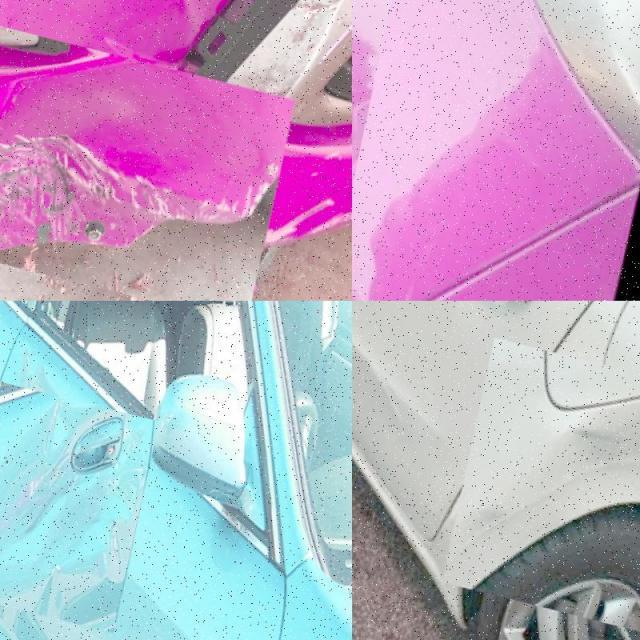car damage: (9, 514, 221, 640), (0, 126, 177, 257), (0, 456, 87, 560), (549, 300, 599, 355), (429, 481, 471, 542), (56, 159, 69, 203), (88, 222, 106, 240), (39, 223, 51, 243)
